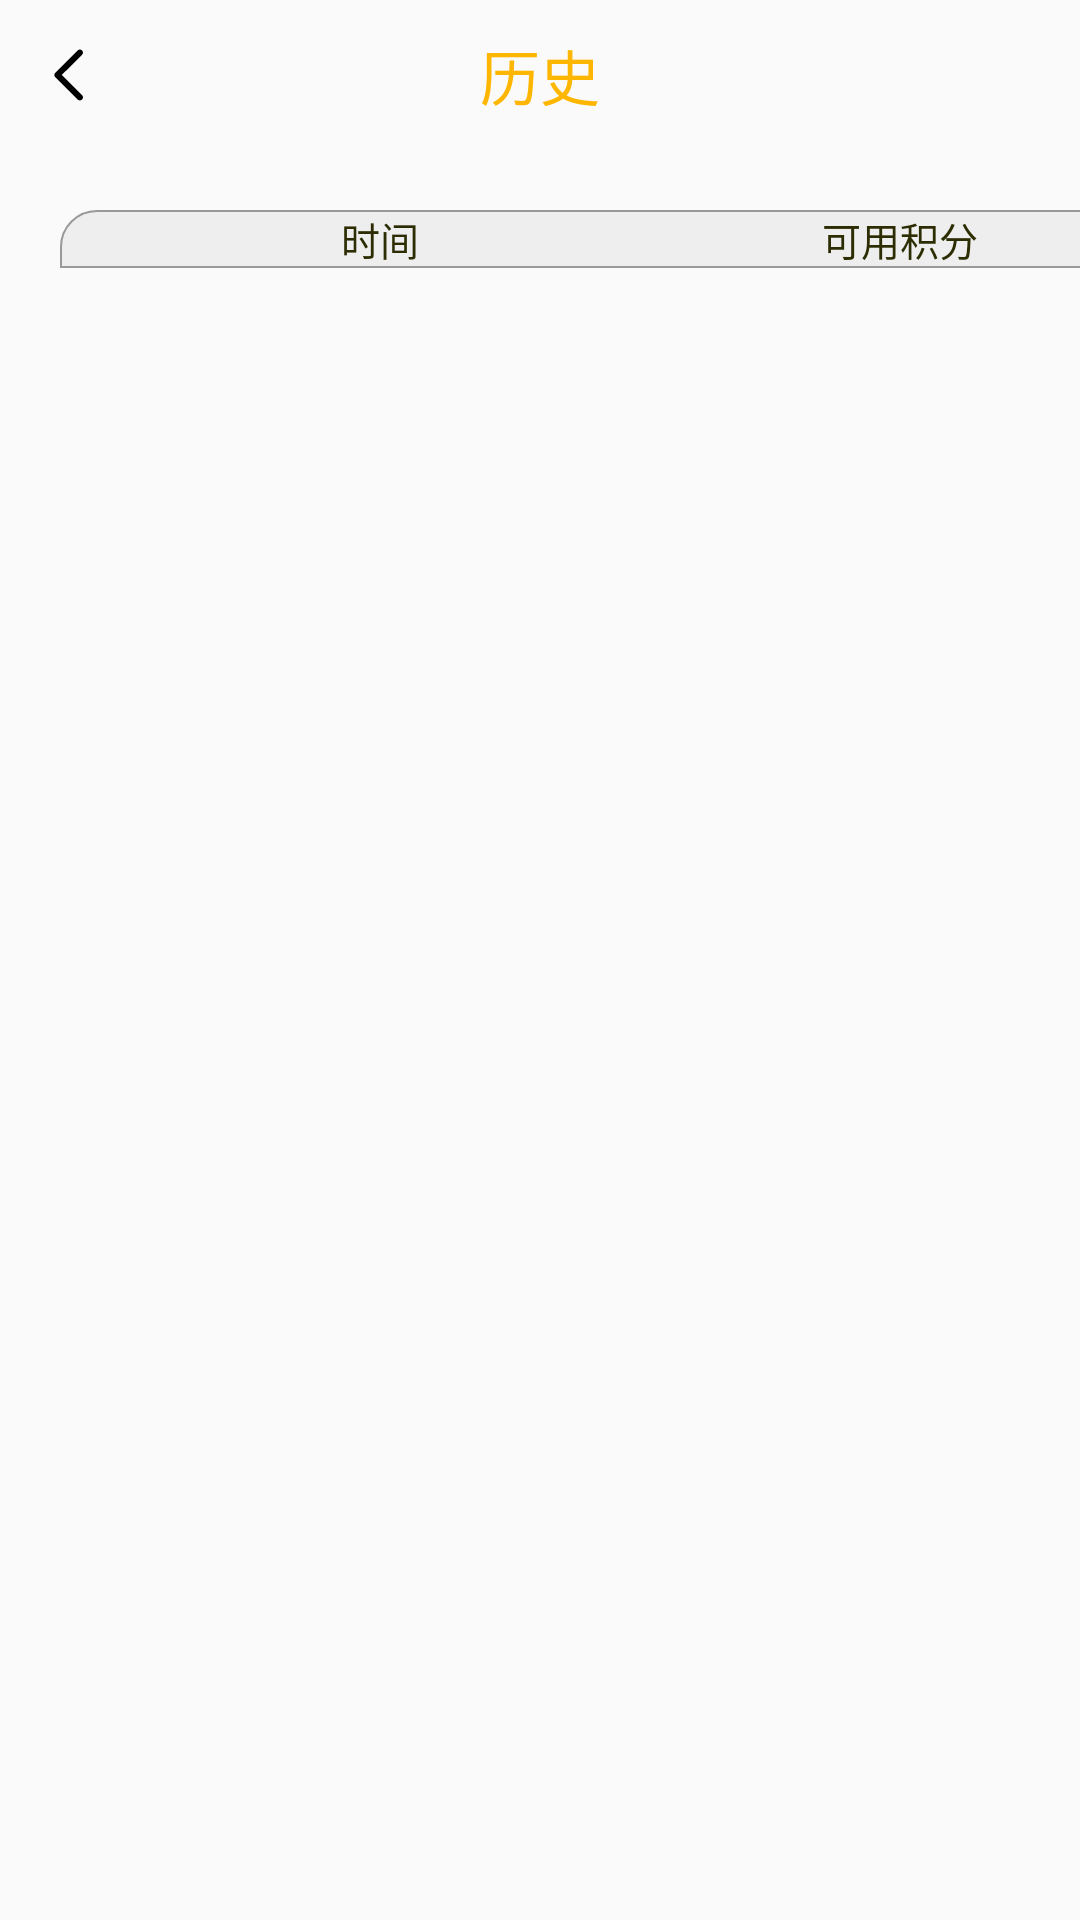

Icon bounding boxes for this 1080 × 1920 phone screenshot, format (x1, y1, x2, y2):
back: (54, 49, 83, 101)
